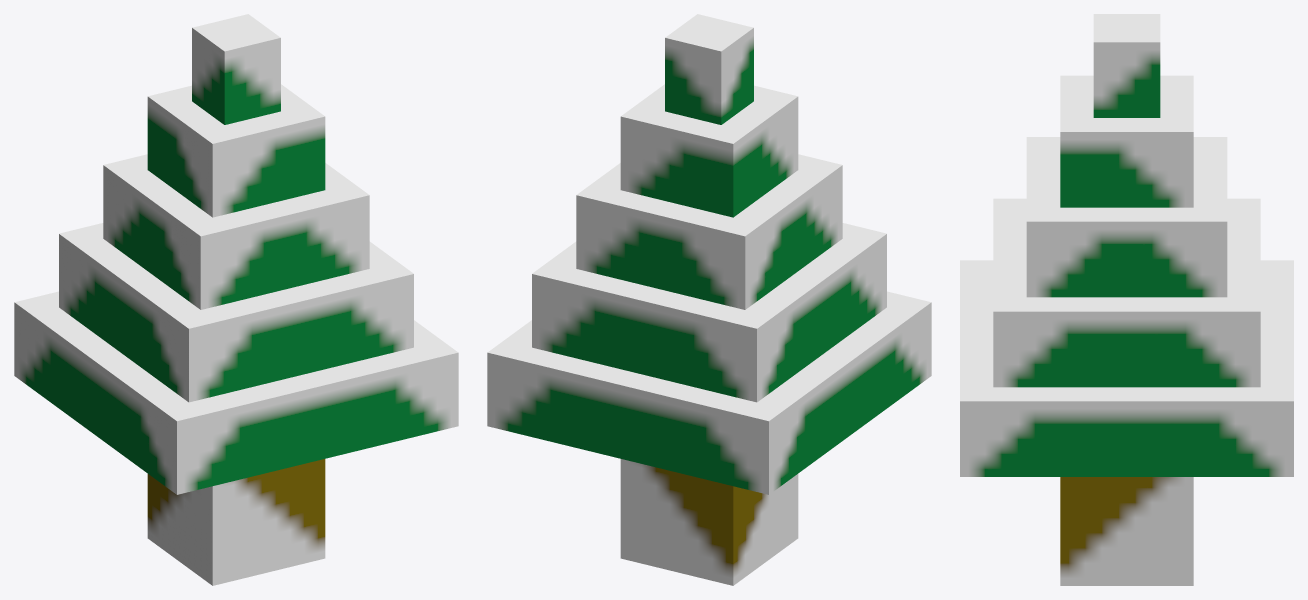
The model's file is Pine_3.fbx.
3 views of the same model, side by side, from view 1: azimuth 30°, elevation 25°; view 2: azimuth 150°, elevation 25°; view 3: azimuth 270°, elevation 25° (orthographic). The views are drawn at different scales.
Visible parts, largest first — view 1: Pine_3; view 2: Pine_3; view 3: Pine_3.
Part boxes in pixels (bbox=[...]): Pine_3: bbox=[14, 14, 458, 585]; Pine_3: bbox=[487, 14, 931, 585]; Pine_3: bbox=[960, 14, 1293, 585].
Size of the model in its own units: 20 by 35 by 20.
Materials: 1 (1 with a texture image).
